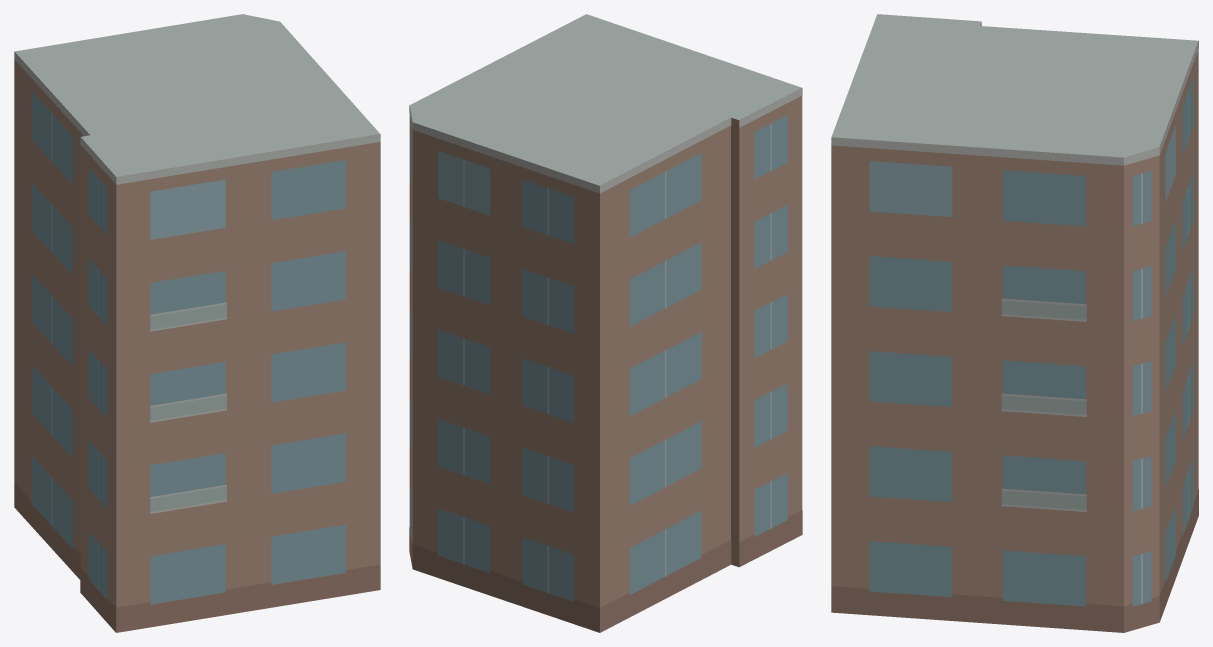
File: survey-upis-32659141.glb
3 views of the same model, side by side, from view 1: azimuth 30°, elevation 25°; view 2: azimuth 150°, elevation 25°; view 3: azimuth 270°, elevation 25° (orthographic). The views are drawn at different scales.
Parts seen in each view (by area): view 1: survey-upis-32659141.tmp; view 2: survey-upis-32659141.tmp; view 3: survey-upis-32659141.tmp.
Boxes of the visible parts, bbox=[...] form: survey-upis-32659141.tmp: bbox=[14, 14, 380, 632]; survey-upis-32659141.tmp: bbox=[409, 14, 802, 632]; survey-upis-32659141.tmp: bbox=[831, 14, 1198, 632].
Bounding box in the file's own units: 9.28 × 14.3 × 10.03.
